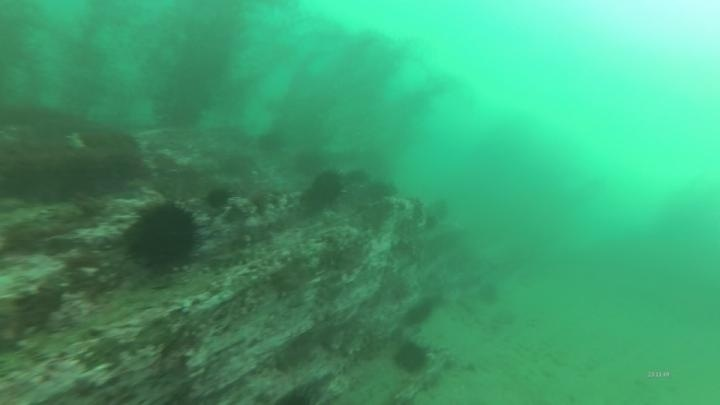echinus: (122, 196, 204, 276), (302, 168, 347, 212), (390, 337, 433, 376), (202, 184, 235, 213), (474, 279, 503, 308)
